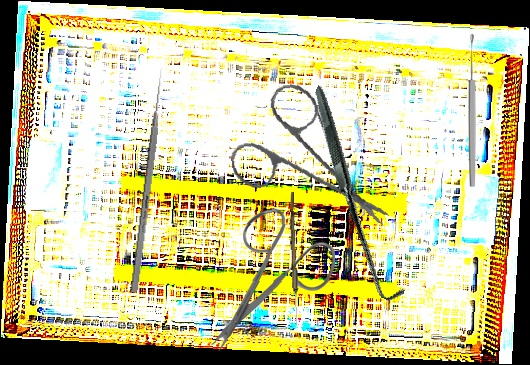Fixation Ring: (309, 101, 367, 222)
Hook Surgical: (251, 85, 466, 305)
Iris Scissors: (222, 73, 390, 246), (208, 207, 337, 355)
Pusher: (130, 67, 166, 293)
Surgical Spoon: (287, 191, 301, 327), (468, 34, 477, 187)
